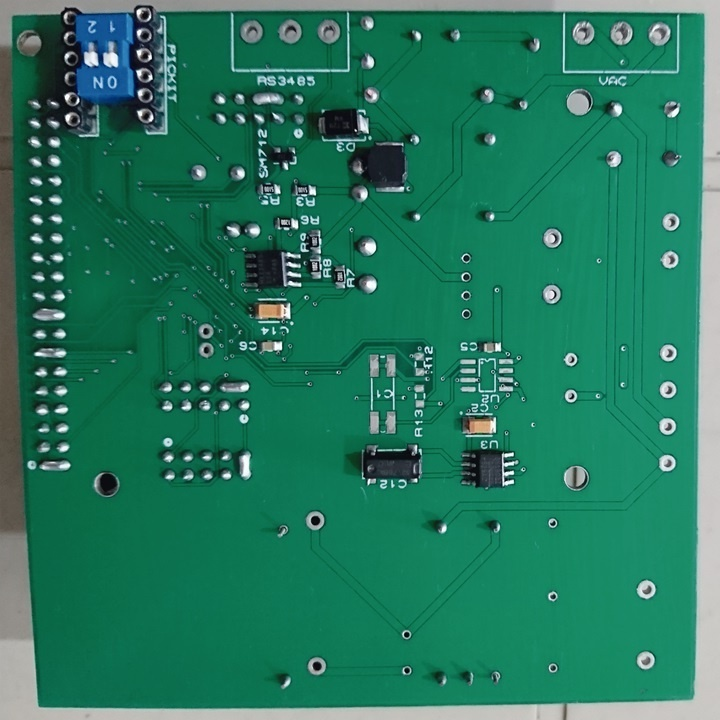F: (646, 20, 676, 49), (274, 17, 304, 46), (313, 16, 341, 46), (606, 20, 635, 48), (237, 18, 266, 46), (570, 19, 596, 46), (657, 377, 681, 402), (604, 146, 627, 172), (542, 225, 564, 252), (306, 655, 329, 680), (541, 282, 563, 308), (656, 452, 680, 475), (359, 49, 378, 78), (634, 578, 659, 600), (635, 650, 658, 673), (361, 82, 382, 107), (659, 98, 682, 120), (303, 509, 326, 531), (659, 249, 681, 271), (660, 211, 681, 234), (659, 342, 679, 364), (187, 163, 207, 183), (658, 416, 677, 437), (272, 521, 292, 540), (196, 320, 216, 339), (561, 351, 580, 369), (561, 387, 579, 406), (359, 15, 376, 34), (198, 341, 215, 360), (489, 668, 505, 686), (457, 269, 473, 285), (459, 306, 473, 323), (399, 626, 413, 642), (546, 513, 559, 530), (547, 589, 560, 605), (400, 662, 413, 678), (460, 252, 474, 266), (459, 289, 473, 303), (546, 663, 559, 676)
P: (29, 305, 67, 326), (250, 89, 285, 110), (234, 446, 253, 483), (215, 378, 250, 398), (31, 346, 70, 363), (34, 460, 73, 475)
